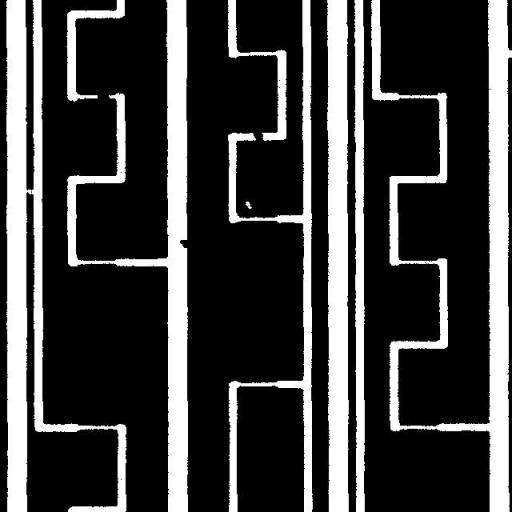open: (16, 180, 42, 202)
pin-hole: (238, 194, 259, 216)
short: (245, 122, 271, 152), (90, 85, 116, 107)
spur: (172, 232, 200, 255)
